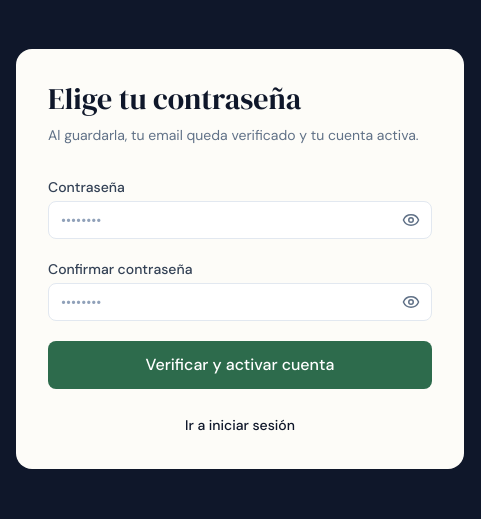
Test: VerifyEmailPage › muestra el error del backend si el token no sirve
Type "Password123!" into the password field labelled "Contraseña" at (240, 220), box x1=48 y1=201 x2=432 y2=239
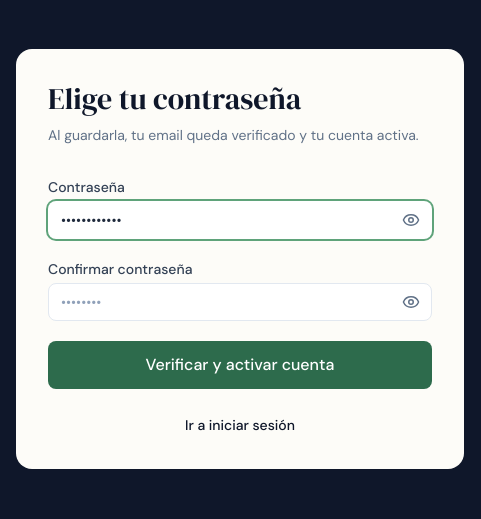
Type "Password123!" into the password field labelled "Confirmar contraseña" at (240, 302), box x1=48 y1=283 x2=432 y2=321
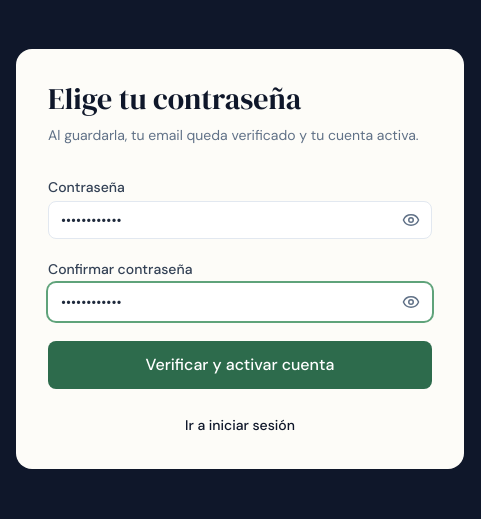
Click the button "Verificar y activar cuenta" at (240, 365), box x1=48 y1=341 x2=432 y2=389
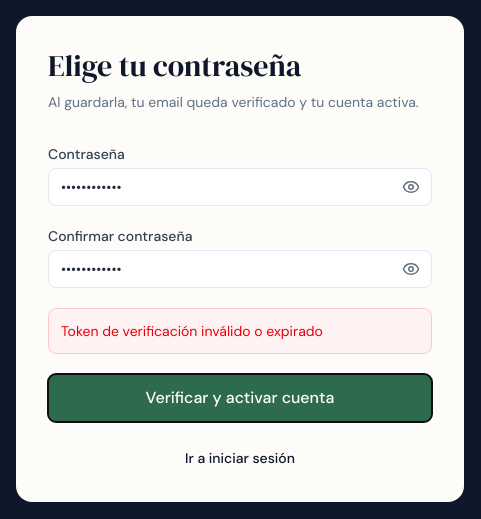
Expected: the text "Token de verificación inválido o expirado" is shown, x1=61 y1=322 x2=323 y2=340
